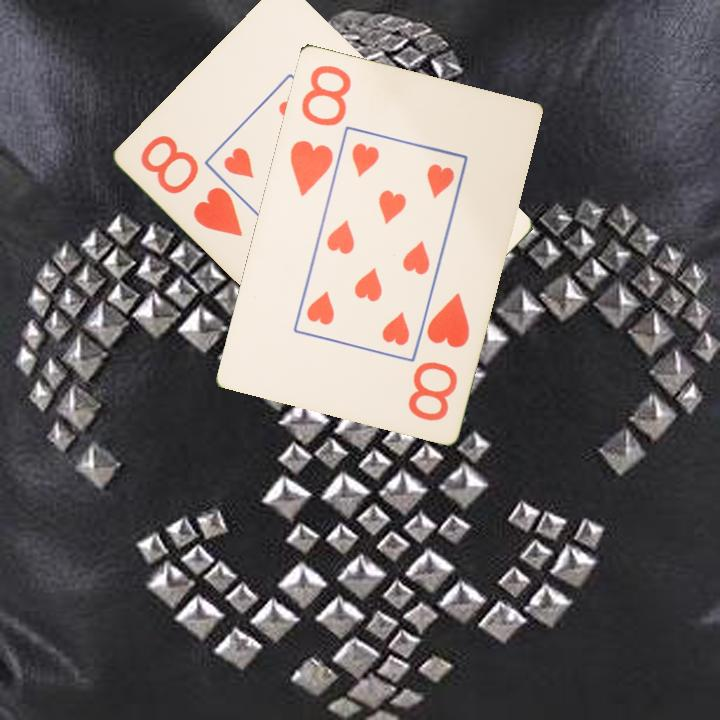8h: (137, 131, 247, 240), (286, 61, 354, 199), (404, 288, 473, 424)
